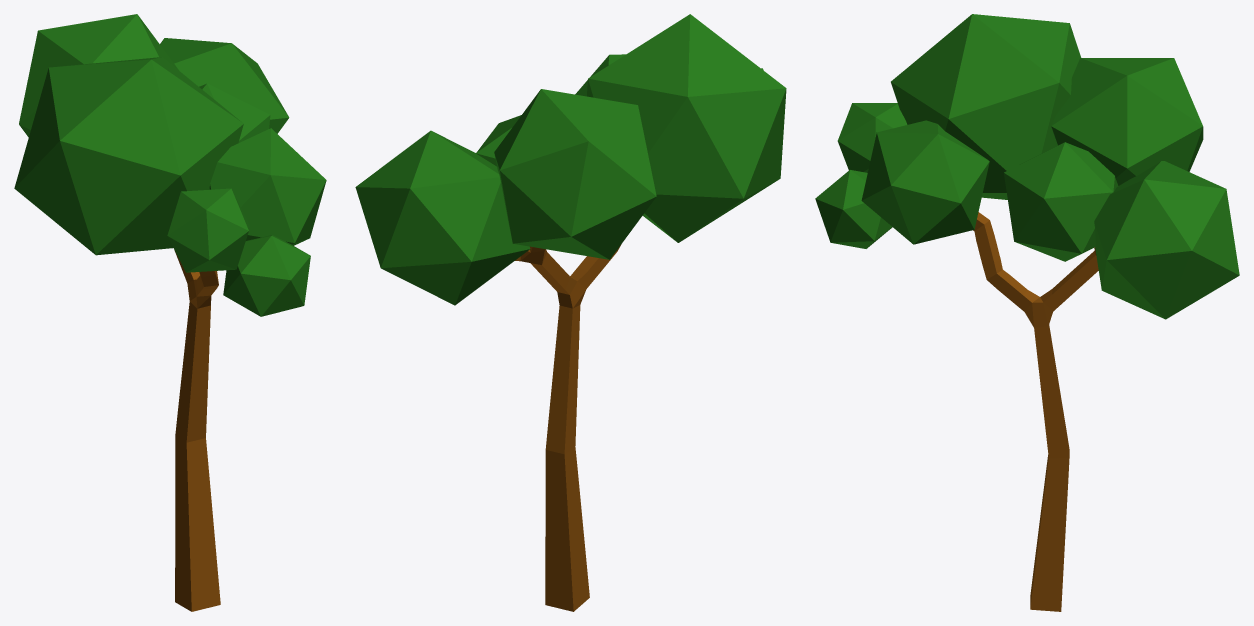
Rendered from Tree1.fbx.
3 renders of one model, left to right at view 1: azimuth 30°, elevation 25°; view 2: azimuth 150°, elevation 25°; view 3: azimuth 270°, elevation 25°, orthographic. The views are drawn at different scales.
Parts seen in each view (by area): view 1: Icosphere.002; view 2: Icosphere.002; view 3: Icosphere.002.
Part boxes in pixels (x1,y1,x2,y2): Icosphere.002: [14, 14, 326, 611]; Icosphere.002: [355, 14, 786, 611]; Icosphere.002: [815, 14, 1239, 611].
Bounding box in the file's own units: 154 × 273 × 190.
